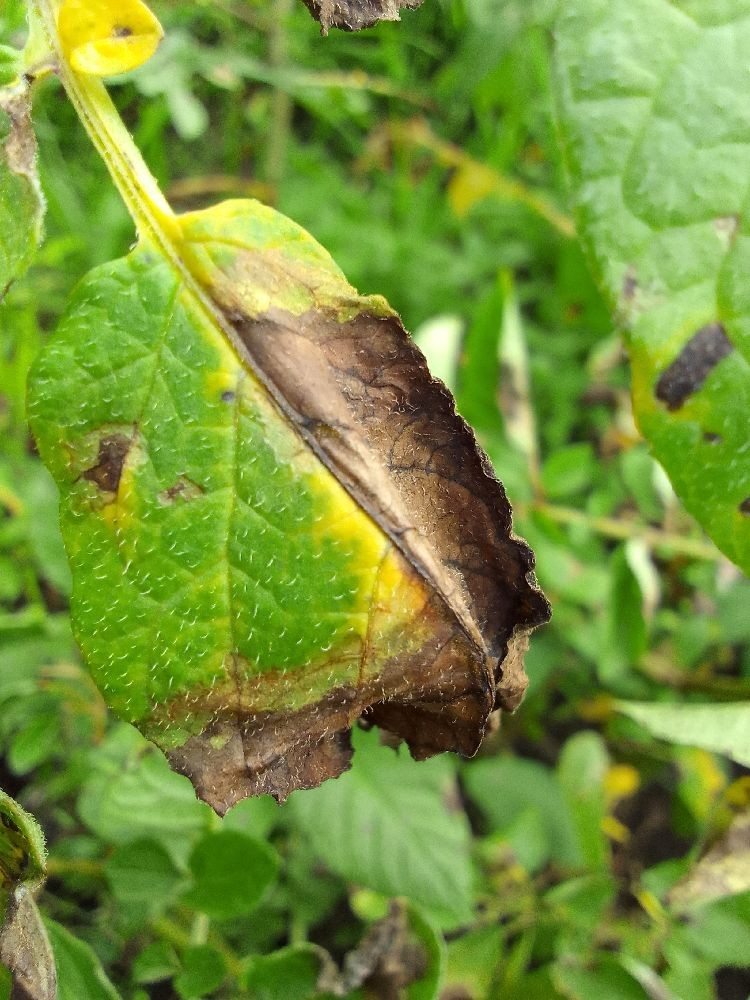late_blight: (148, 154, 577, 833), (0, 798, 182, 1000), (149, 59, 291, 229), (288, 865, 447, 1000)
